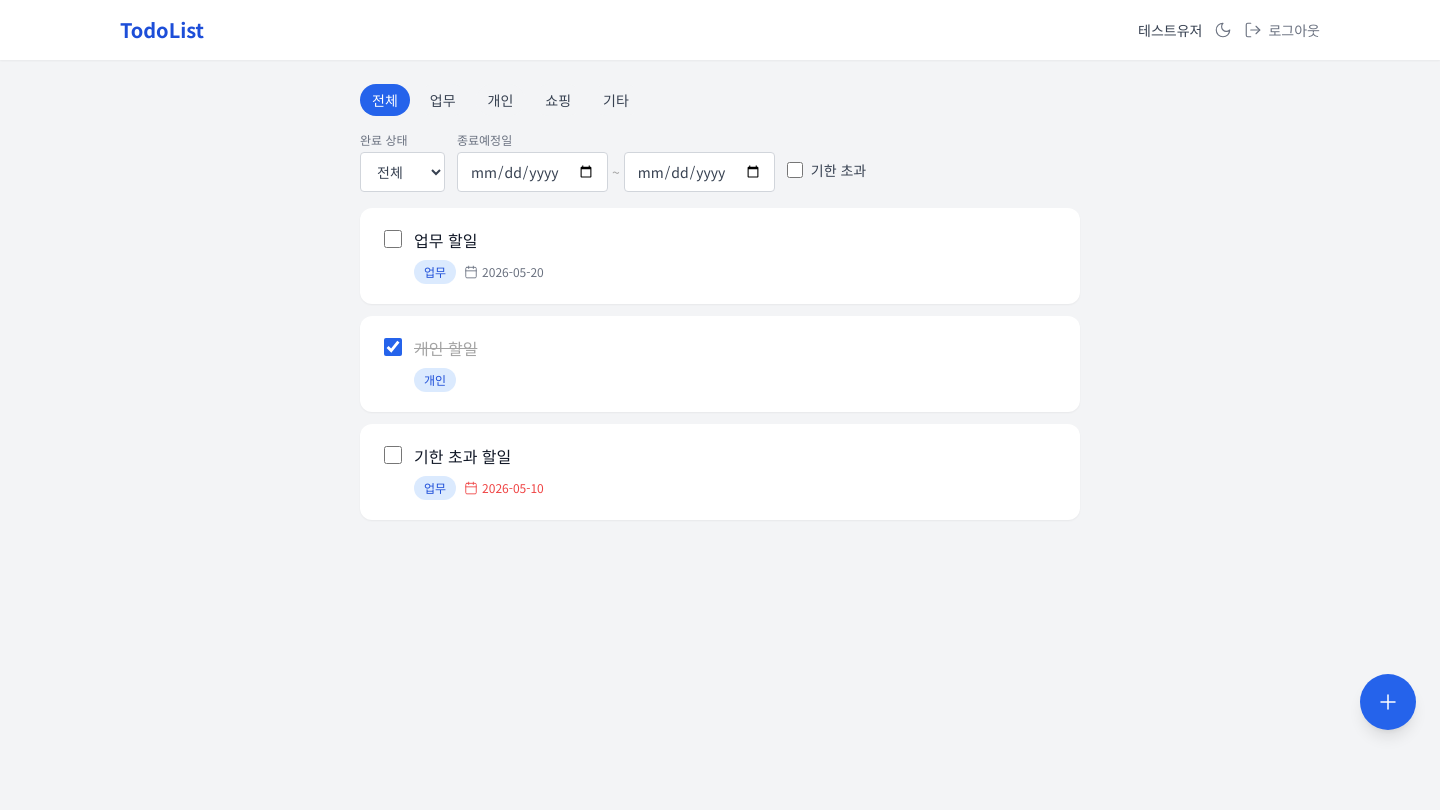
Todos Integration › 카테고리 필터 선택 시 해당 카테고리만 표시
Click the button "업무". click: (443, 100)
box: [418,84,468,116]
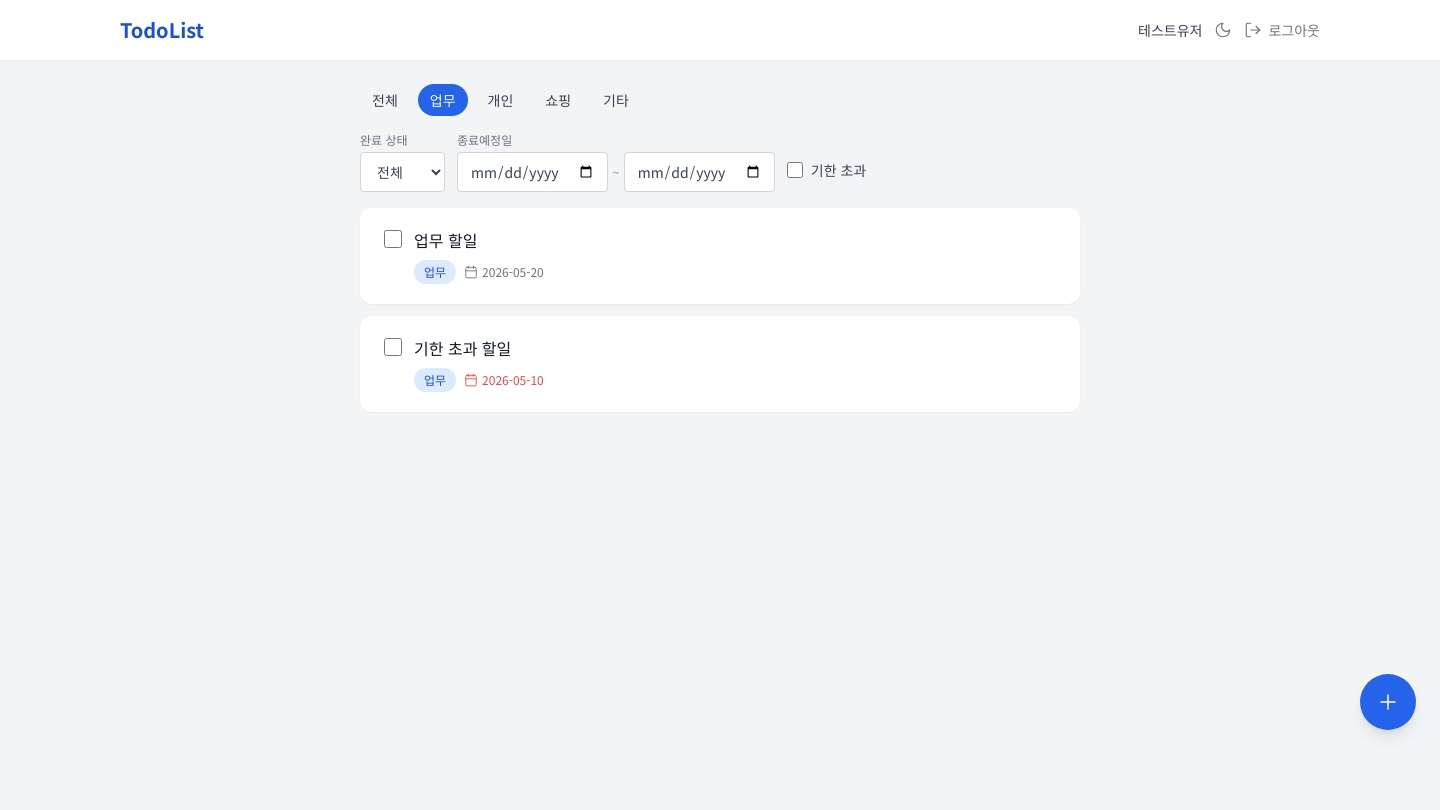
Expected: the text "업무 할일" is shown, [414,228,477,252]
Expected: the text "개인 할일" is gone
